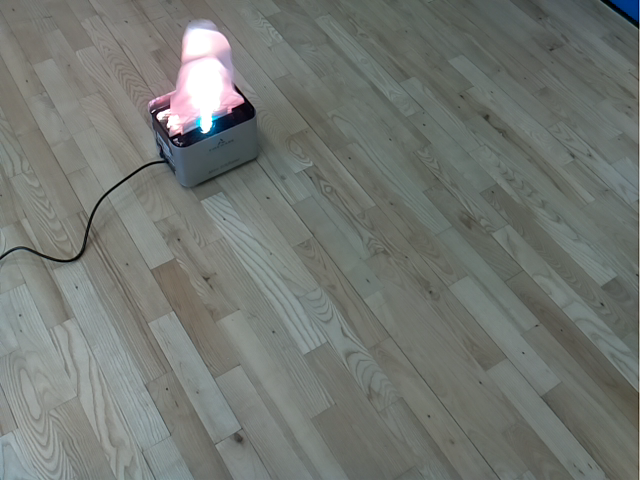fire: (167, 19, 244, 136)
